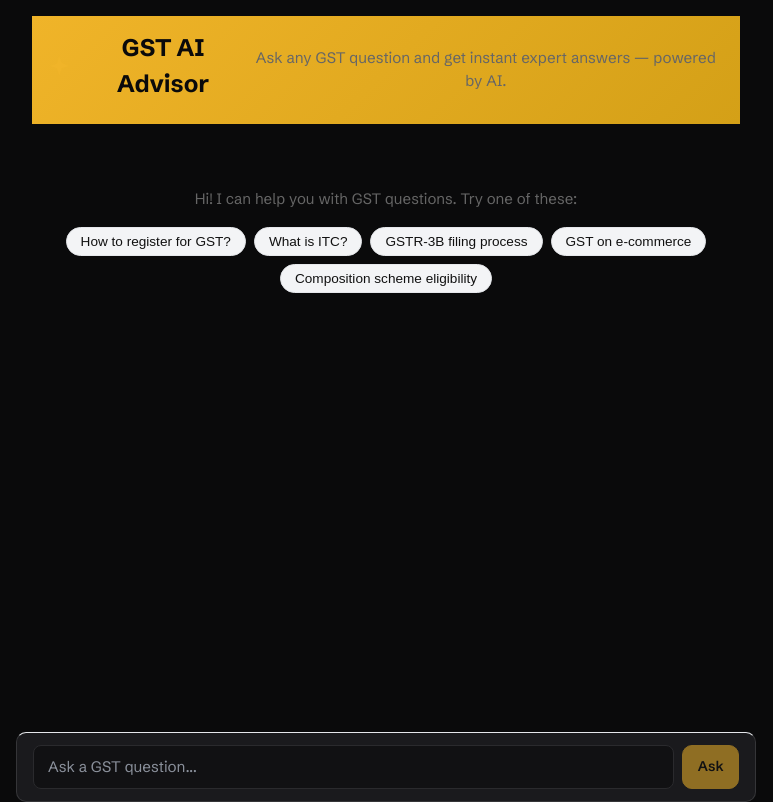
Scenario: AdvisorPage › explains a refused request instead of showing an empty reply
Step 1. Type "test" into the field with placeholder "Ask a GST question..." → (354, 767), box x1=33 y1=745 x2=674 y2=789
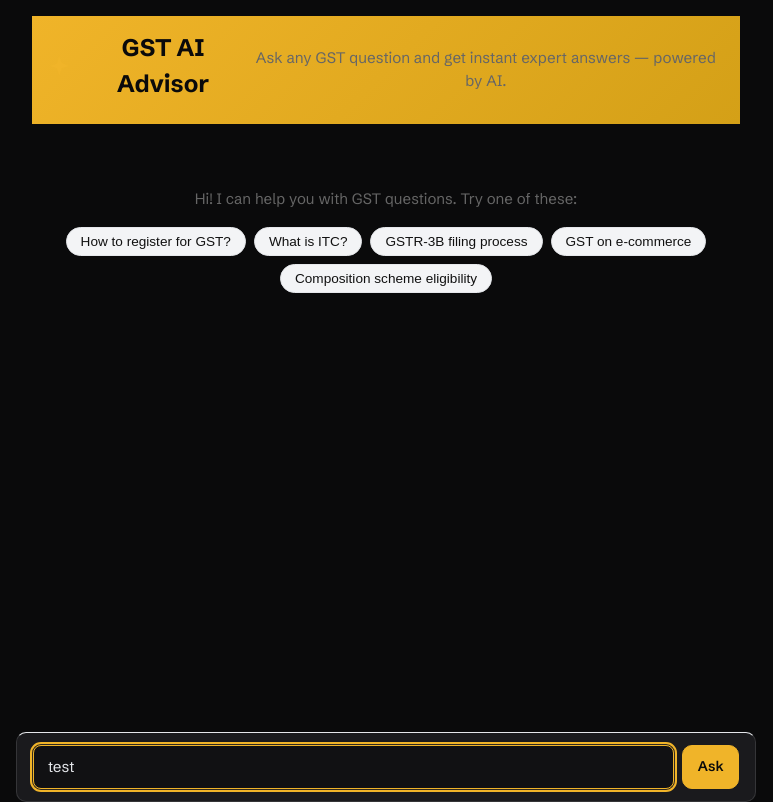
Step 2. Click the button "Ask" → (711, 767), box x1=682 y1=745 x2=739 y2=789
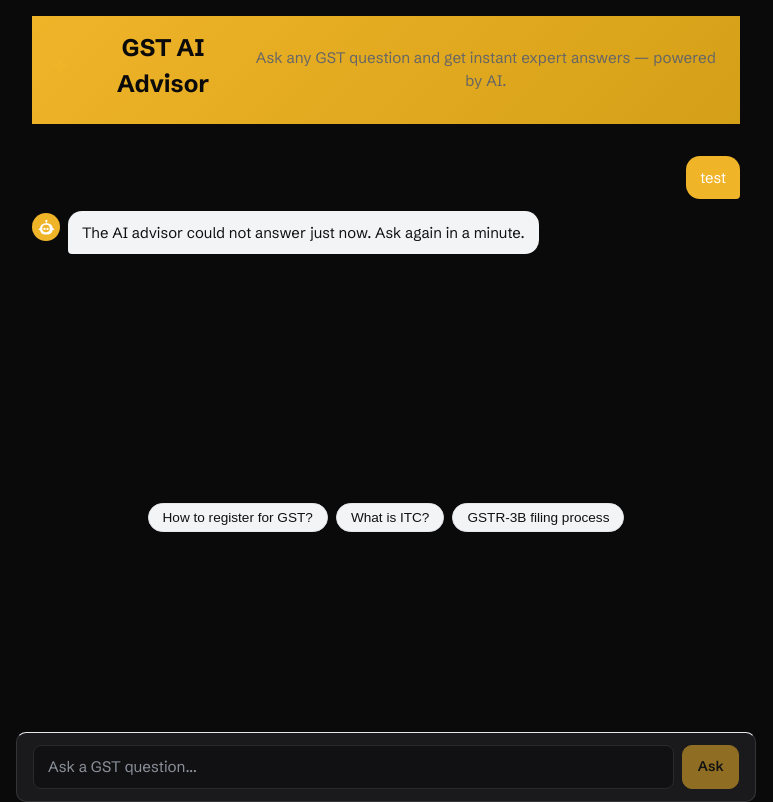
expect the text "could not answer just now" is shown: met, box x1=82 y1=223 x2=525 y2=242
